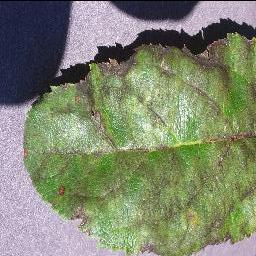apple healthy: (21, 28, 255, 255)
